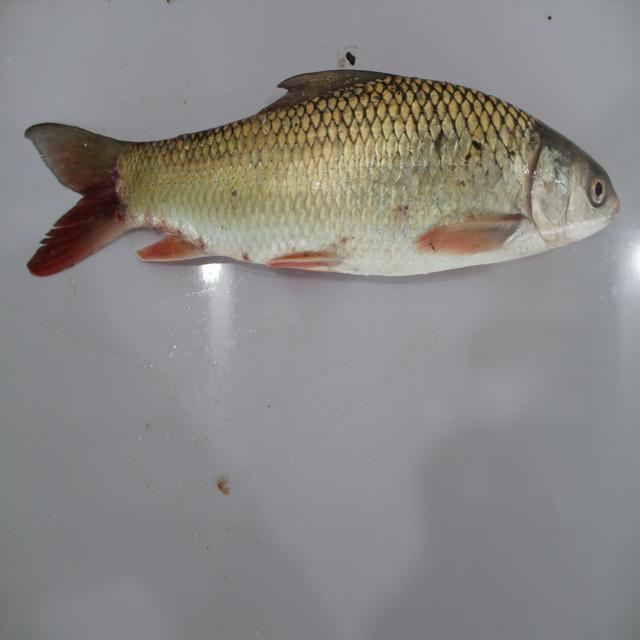Mori: (21, 49, 622, 337)
